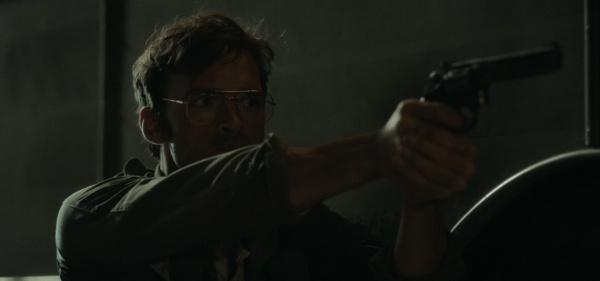Gun: (417, 41, 564, 126)
